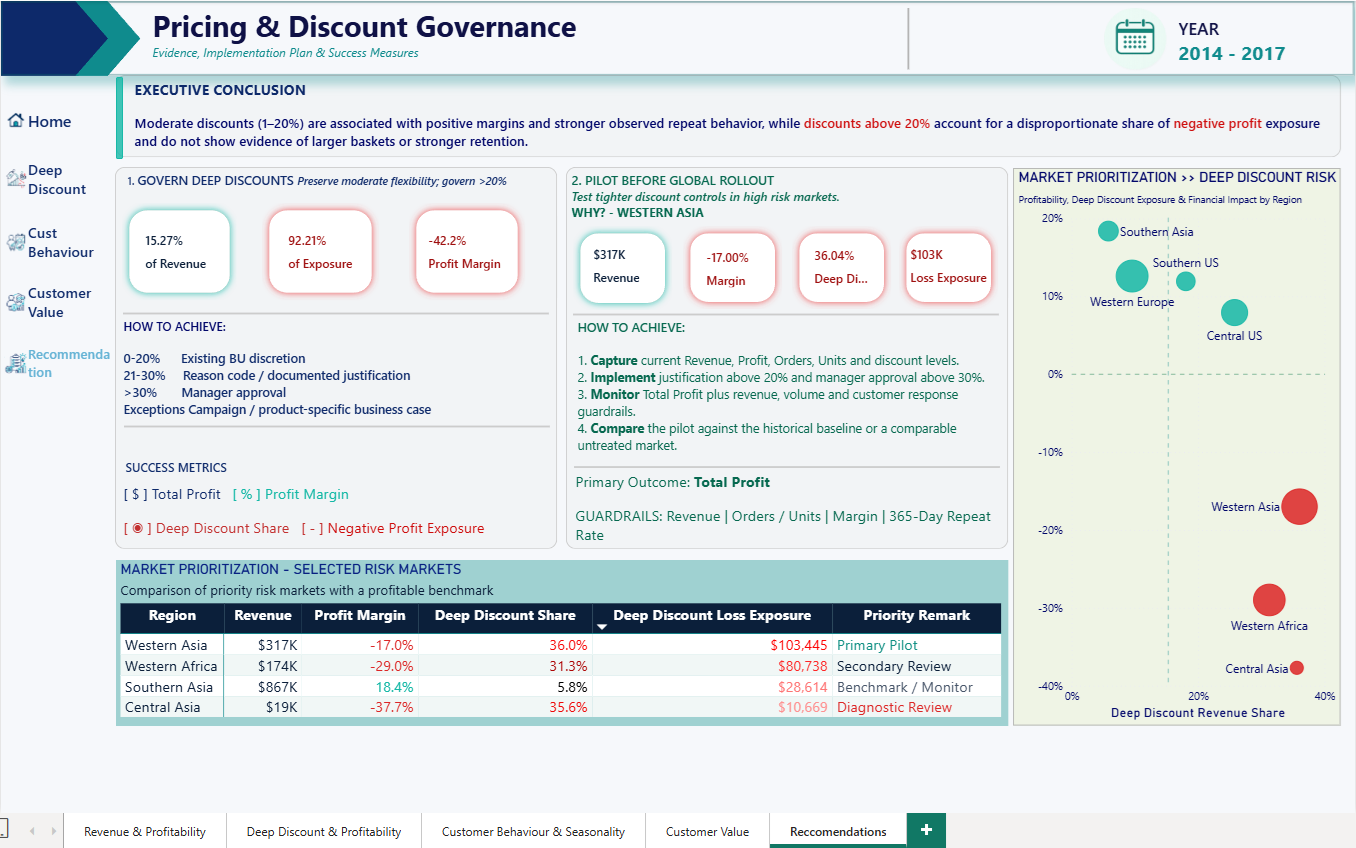

The dashboard page shown, as its layout file describes it:
{"tool":"powerbi","page":{"name":"Reccomendations","canvas":[1500,900],"ordinal":4},"visuals":[{"type":"shape","box":[127.5,82.5,1357.5,91.2],"z":0},{"type":"shape","box":[126.7,184.4,490,423.3],"z":1000},{"type":"textbox","box":[162.9,0,847.9,76.5],"z":2000},{"type":"shape","box":[0,0.4,127.4,83.2],"z":3000},{"type":"shape","box":[0,0,1500,82.8],"z":4000},{"type":"shape","box":[82.1,0.4,72.6,83.2],"z":5000},{"type":"shape","box":[961,7.8,89.5,68.4],"z":6000},{"type":"image","box":[1212.9,-0.5,91.6,90.5],"z":7000},{"type":"textbox","box":[1300.2,12.1,138.9,64.2],"z":8000},{"type":"textbox","box":[142.5,82.5,1342.5,91.2],"z":9000},{"type":"shape","box":[626.7,184.4,490,423.3],"z":10000},{"type":"shape","box":[127.5,83.8,7.8,90.9],"z":11000},{"type":"textbox","box":[134.7,183.8,488.8,28.8],"z":12000},{"type":"shape","box":[133.6,223.7,127.5,107.5],"z":13000},{"type":"cardVisual","fields":{"Data":["_Measures.Deep Discount Revenue %"]},"box":[142.5,233.8,118.8,87.5],"z":14000},{"type":"shape","box":[288.8,223.7,129.7,107.5],"z":15000},{"type":"cardVisual","fields":{"Data":["_Measures.Deep Discount Loss Share"]},"box":[301,233.7,105.3,87.6],"z":16000},{"type":"shape","box":[451.7,223.7,128.6,107.5],"z":17000},{"type":"cardVisual","fields":{"Data":["_Measures.Deep Discount Profit Margin"]},"box":[456.2,233.7,118.6,87.6],"z":18000},{"type":"textbox","box":[131.1,346.7,488.9,124.4],"z":19000},{"type":"shape","box":[134.7,337.8,472.2,16.6],"z":20000},{"type":"shape","box":[135.8,463.1,472.2,16.6],"z":21000},{"type":"textbox","box":[131.1,530,488.9,77.8],"z":22000},{"type":"textbox","box":[133.3,503.3,153,26.6],"z":23000},{"type":"textbox","box":[627.8,184.4,488.9,64.4],"z":24000},{"type":"shape","box":[635.6,503.3,472.2,26.7],"z":25000},{"type":"shape","box":[634.4,338.9,472.2,16.6],"z":26000},{"type":"textbox","box":[634.4,346.7,473.3,170],"z":27000},{"type":"textbox","box":[632.2,516.7,480,91.1],"z":28000},{"type":"scatterChart","title":"MARKET PRIORITIZATION >> DEEP DISCOUNT RISK","fields":{"Category":["DimMarketRegion.Region"],"Size":["_Measures.Deep Discount Loss Exposure"],"X":["_Measures.Deep Discount Revenue %"],"Y":["_Measures.PROFIT MARGIN"]},"box":[1122.2,185.6,363.3,617.8],"z":29000},{"type":"pivotTable","title":"MARKET PRIORITIZATION - SELECTED RISK MARKETS","fields":{"Rows":["DimMarketRegion.Region"],"Values":["_Measures.TOTAL REVENUE","_Measures.PROFIT MARGIN","_Measures.Deep Discount Revenue %","_Measures.Deep Discount Loss Exposure","DimMarketRegion.Priority Remark"]},"box":[127.8,619.3,988.9,184.2],"z":30000},{"type":"shape","box":[634.4,248.9,110,93.3],"z":31000},{"type":"cardVisual","fields":{"Data":["_Measures.TOTAL REVENUE"]},"box":[640,255.6,104.4,74.4],"z":32000},{"type":"shape","box":[755.6,248.9,110,92.2],"z":33000},{"type":"cardVisual","fields":{"Data":["_Measures.PROFIT MARGIN"]},"box":[764.4,257.8,93.3,75.6],"z":34000},{"type":"shape","box":[876.7,248.9,110,92.2],"z":35000},{"type":"cardVisual","fields":{"Data":["_Measures.Deep Discount Revenue %"]},"box":[884.4,256.7,94.4,74.4],"z":36000},{"type":"shape","box":[995.6,248.9,110,92.2],"z":37000},{"type":"cardVisual","fields":{"Data":["_Measures.Deep Discount Loss Exposure"]},"box":[991.2,255,130,75],"z":38000},{"type":"actionButton","box":[0,100,126.7,65.6],"z":39000},{"type":"actionButton","box":[0,165.6,126.7,63.3],"z":40000},{"type":"actionButton","box":[0,232.2,126.7,68.9],"z":41000},{"type":"actionButton","box":[0,301.1,127.8,64.4],"z":42000},{"type":"actionButton","box":[0,370,126.7,62.2],"z":43000}]}

Visuals, with their boxes on the page's 1500x900 design canvas (x1, y1, x2, y2). These are canvas units, not pixel positions in the 1356x848 screenshot, which may show the page scaled, cropped or inside an application window:
shape: bbox=[128, 82, 1485, 174]
shape: bbox=[127, 184, 617, 608]
textbox: bbox=[163, 0, 1011, 76]
shape: bbox=[0, 0, 127, 84]
shape: bbox=[0, 0, 1500, 83]
shape: bbox=[82, 0, 155, 84]
shape: bbox=[961, 8, 1050, 76]
image: bbox=[1213, 0, 1304, 90]
textbox: bbox=[1300, 12, 1439, 76]
textbox: bbox=[142, 82, 1485, 174]
shape: bbox=[627, 184, 1117, 608]
shape: bbox=[128, 84, 135, 175]
textbox: bbox=[135, 184, 624, 213]
shape: bbox=[134, 224, 261, 331]
cardVisual - _Measures.Deep Discount Revenue %: bbox=[142, 234, 261, 321]
shape: bbox=[289, 224, 418, 331]
cardVisual - _Measures.Deep Discount Loss Share: bbox=[301, 234, 406, 321]
shape: bbox=[452, 224, 580, 331]
cardVisual - _Measures.Deep Discount Profit Margin: bbox=[456, 234, 575, 321]
textbox: bbox=[131, 347, 620, 471]
shape: bbox=[135, 338, 607, 354]
shape: bbox=[136, 463, 608, 480]
textbox: bbox=[131, 530, 620, 608]
textbox: bbox=[133, 503, 286, 530]
textbox: bbox=[628, 184, 1117, 249]
shape: bbox=[636, 503, 1108, 530]
shape: bbox=[634, 339, 1107, 356]
textbox: bbox=[634, 347, 1108, 517]
textbox: bbox=[632, 517, 1112, 608]
"MARKET PRIORITIZATION >> DEEP DISCOUNT RISK" scatterChart: bbox=[1122, 186, 1486, 803]
"MARKET PRIORITIZATION - SELECTED RISK MARKETS" pivotTable: bbox=[128, 619, 1117, 804]
shape: bbox=[634, 249, 744, 342]
cardVisual - _Measures.TOTAL REVENUE: bbox=[640, 256, 744, 330]
shape: bbox=[756, 249, 866, 341]
cardVisual - _Measures.PROFIT MARGIN: bbox=[764, 258, 858, 333]
shape: bbox=[877, 249, 987, 341]
cardVisual - _Measures.Deep Discount Revenue %: bbox=[884, 257, 979, 331]
shape: bbox=[996, 249, 1106, 341]
cardVisual - _Measures.Deep Discount Loss Exposure: bbox=[991, 255, 1121, 330]
actionButton: bbox=[0, 100, 127, 166]
actionButton: bbox=[0, 166, 127, 229]
actionButton: bbox=[0, 232, 127, 301]
actionButton: bbox=[0, 301, 128, 366]
actionButton: bbox=[0, 370, 127, 432]
